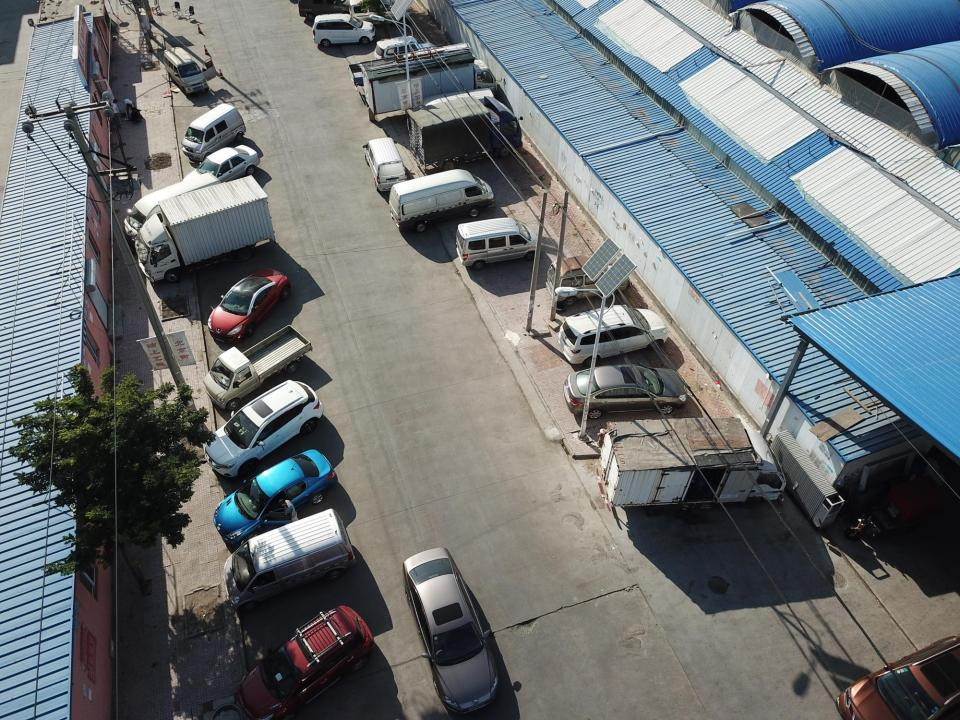car: (227, 613, 396, 715), (401, 548, 504, 713), (215, 456, 344, 539), (843, 626, 959, 714), (200, 386, 328, 461), (558, 361, 689, 412), (208, 268, 296, 338), (183, 144, 260, 192), (374, 33, 442, 64)
truck: (602, 420, 786, 510), (136, 179, 293, 279), (357, 52, 508, 118), (204, 324, 312, 404), (408, 102, 528, 166), (123, 174, 238, 238)
van: (214, 521, 372, 609), (556, 297, 670, 362), (392, 168, 493, 223), (459, 214, 533, 274), (180, 103, 250, 154), (554, 253, 634, 296), (362, 131, 408, 193), (304, 12, 376, 48), (154, 43, 210, 89)
